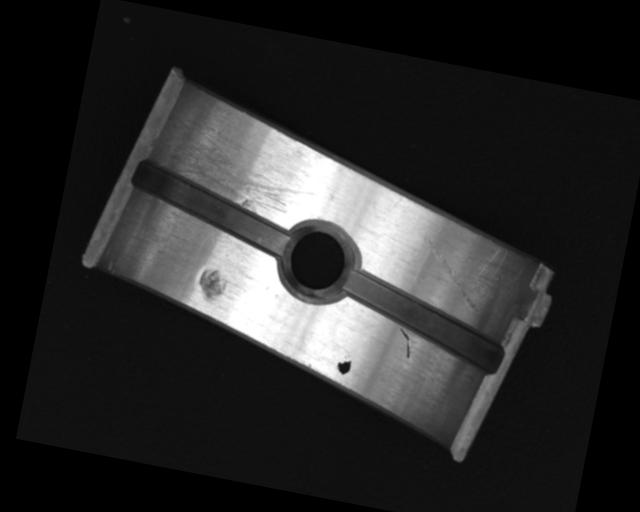blot: (334, 352, 353, 376)
bruise: (195, 264, 231, 304)
gap: (334, 269, 512, 376), (123, 159, 302, 259)
hole: (274, 215, 361, 306)
nick: (410, 232, 493, 315), (394, 326, 415, 360)
scratch: (141, 111, 329, 225)
